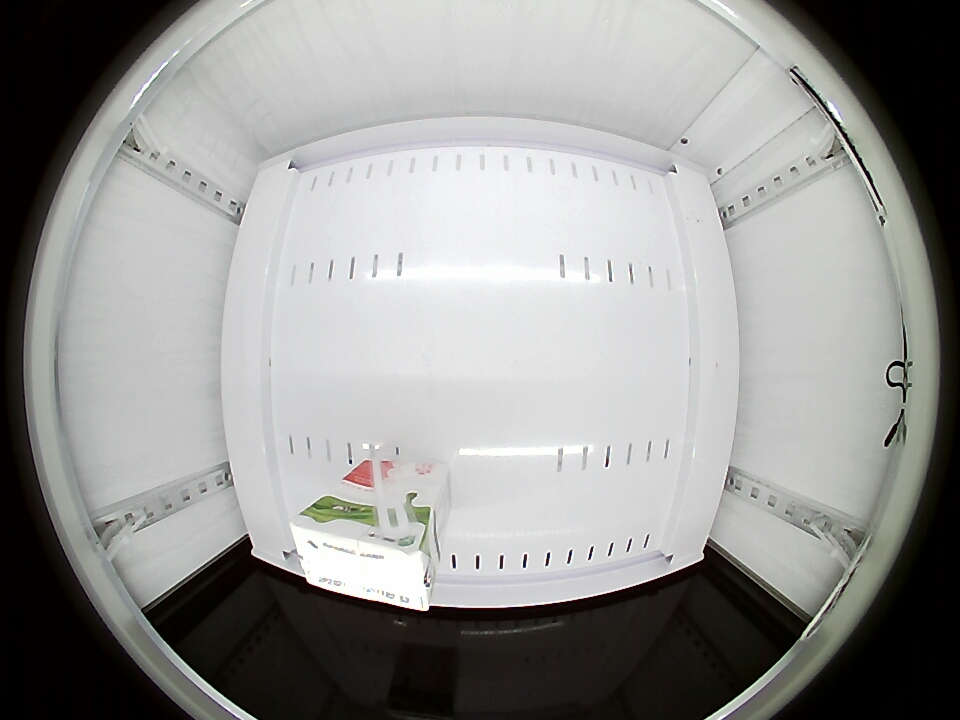mengniu: (289, 503, 436, 612)
